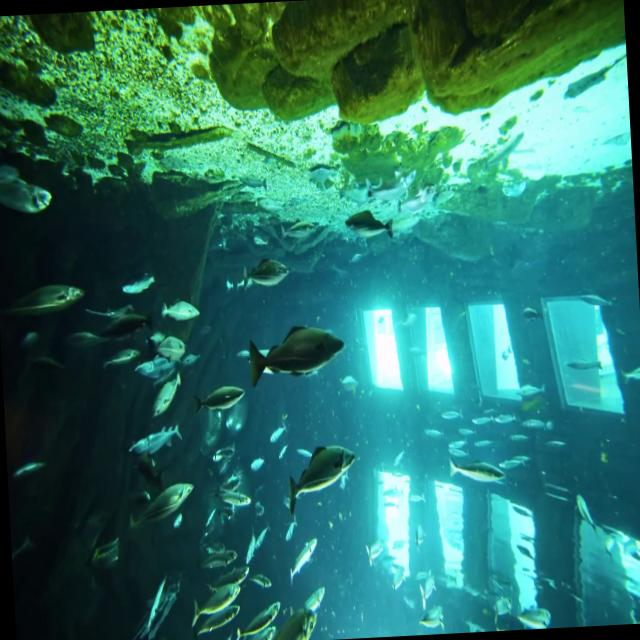fish: (248, 324, 348, 386), (288, 440, 360, 521), (0, 278, 84, 318), (186, 582, 242, 628), (192, 382, 248, 416), (444, 456, 506, 486), (240, 258, 290, 294), (344, 206, 396, 240)
